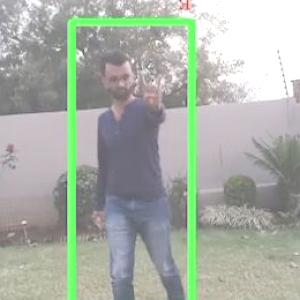takeoff-hand: (140, 67, 172, 115)
